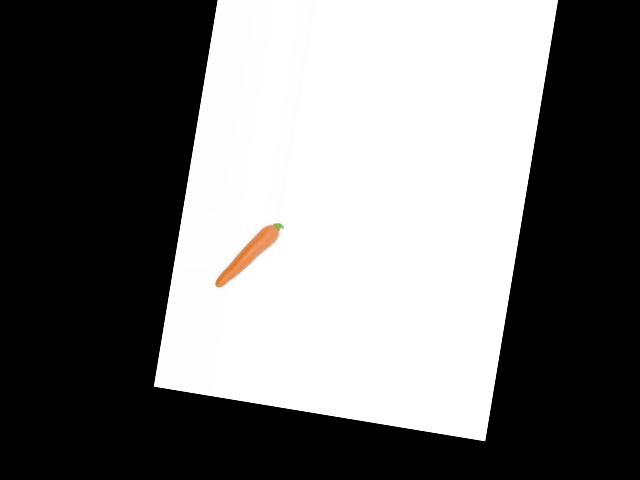carrot: (210, 216, 282, 297)
